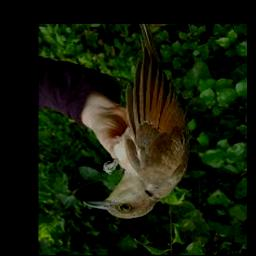Cuckoo: (83, 24, 191, 219)
